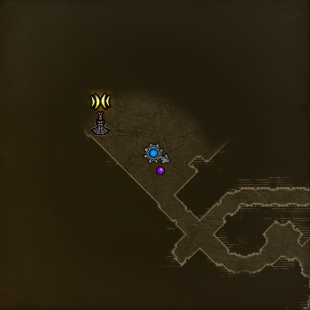ChannPylon: (88, 90, 114, 136)
